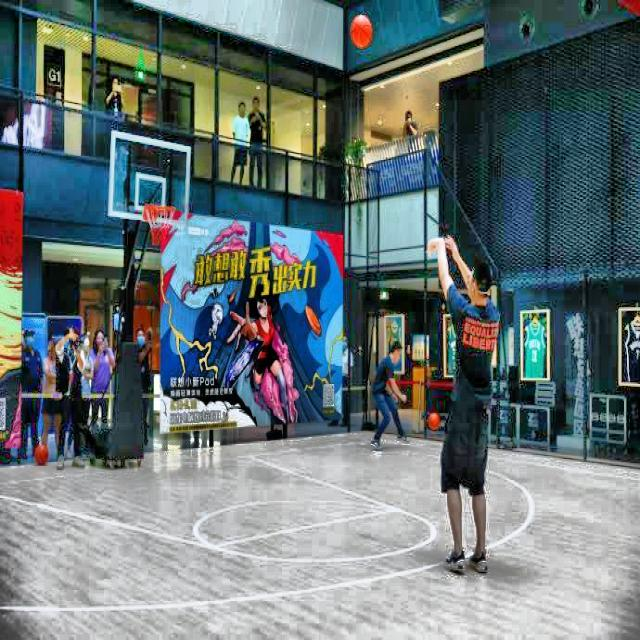board: (351, 15, 372, 48)
rim: (144, 206, 174, 245)
